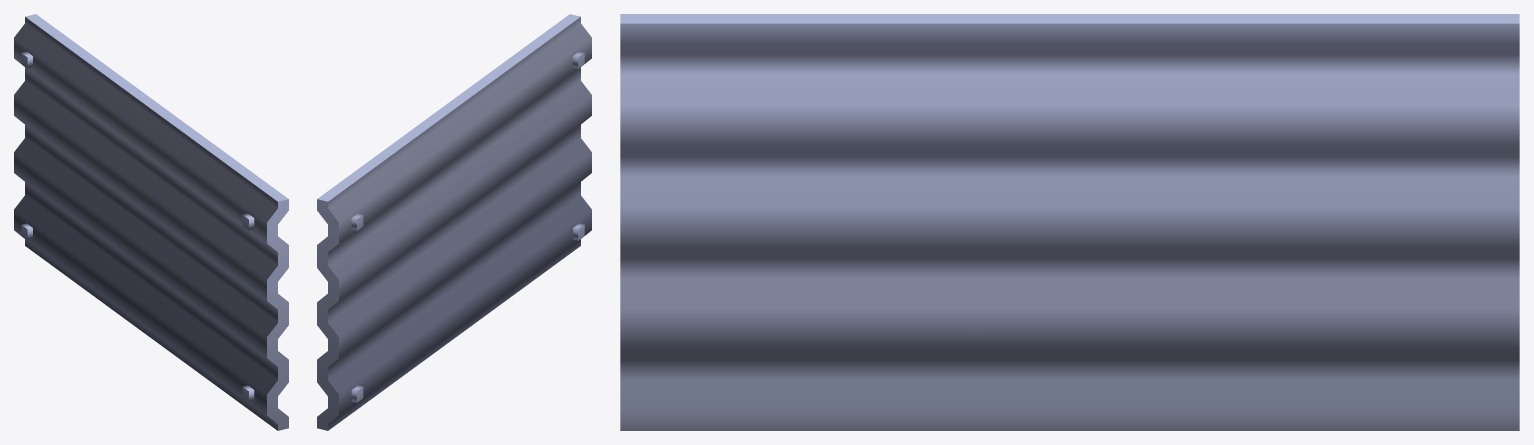
The model's file is kenney-building-plating-detailed-wide.glb.
3 views of the same model, side by side, from view 1: azimuth 30°, elevation 25°; view 2: azimuth 150°, elevation 25°; view 3: azimuth 270°, elevation 25° (orthographic). The views are drawn at different scales.
Parts seen in each view (by area): view 1: plating-detailed-wide; view 2: plating-detailed-wide; view 3: plating-detailed-wide.
Boxes of the visible parts, x1,y1,x2,y2 form: plating-detailed-wide: [14, 14, 288, 430]; plating-detailed-wide: [317, 14, 591, 430]; plating-detailed-wide: [620, 14, 1519, 430].
Size of the model in its own units: 0.125 by 1 by 2.
1 material, 1 textured.
